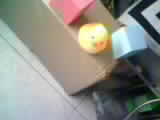duck: (74, 20, 109, 59)
